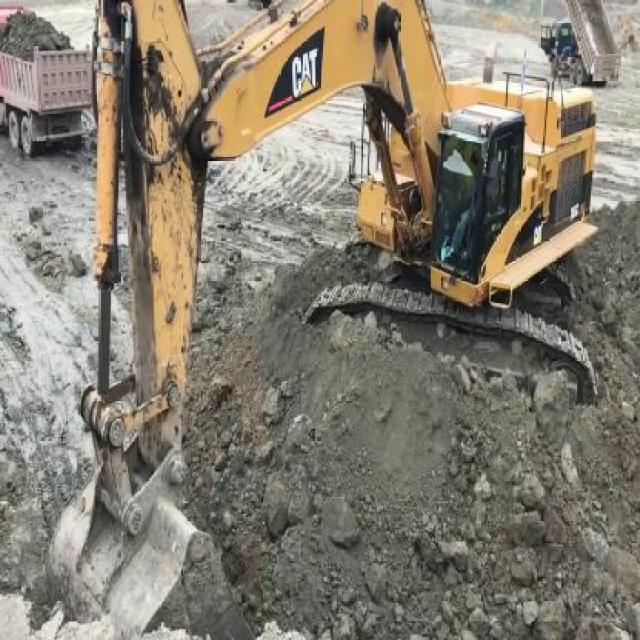Dump Truck: (1, 23, 85, 152), (539, 0, 616, 85)
Excavator: (47, 2, 602, 633)
